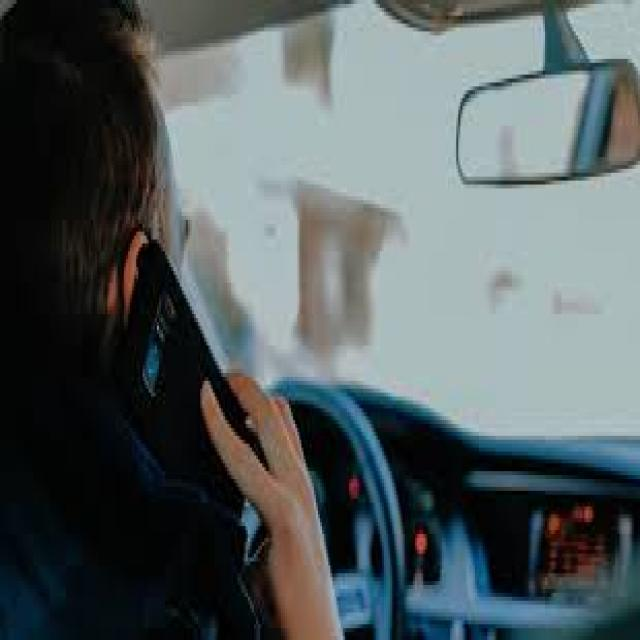Cellphone_calling: (97, 204, 297, 593)
